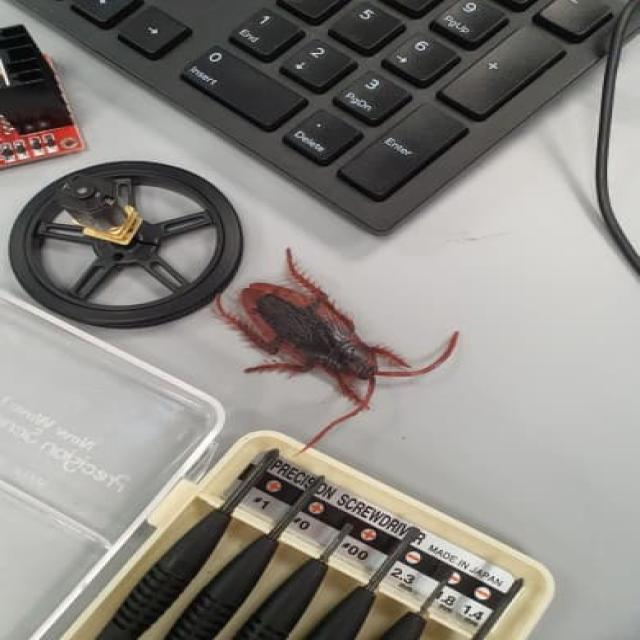Cockroach: (202, 244, 464, 453)
